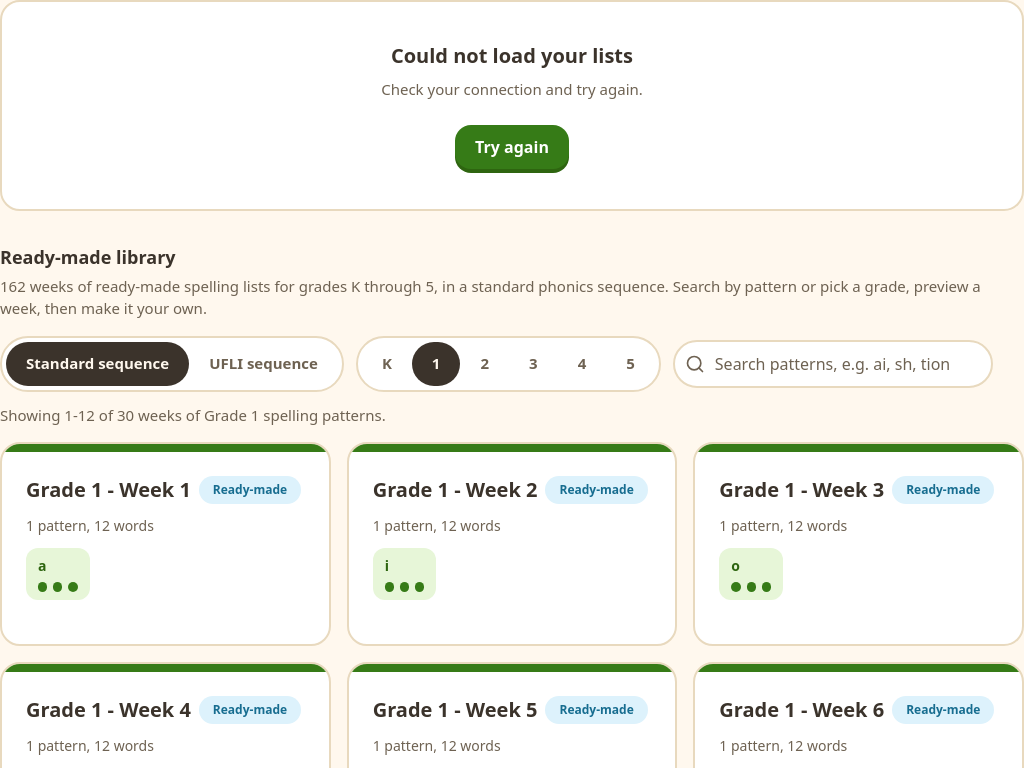
Scenario: PatternListsManager › shows an error card and retries when loading fails
This screenshot has width=1024, height=768.
expect the text "Could not load your lists" is shown: met, box top-left (391, 42), bottom-right (633, 69)
Click the button "Try again": (512, 146) top-left (455, 124), bottom-right (569, 168)
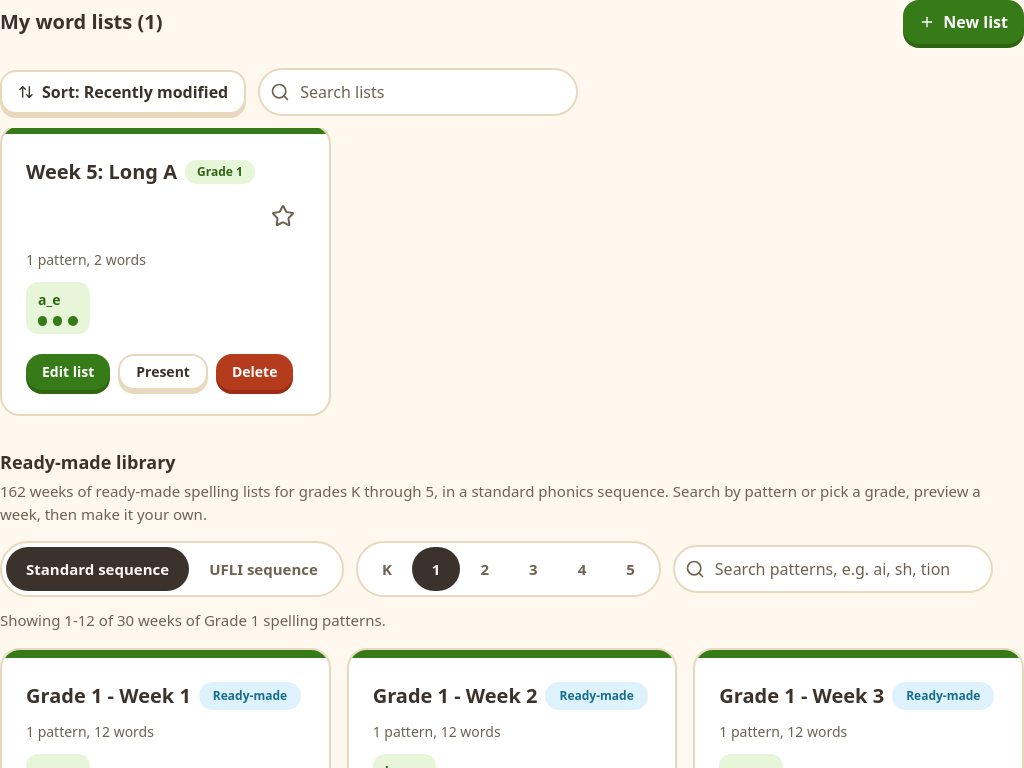
expect the heading "My word lists (1)" is shown: met, box top-left (0, 8), bottom-right (162, 36)
